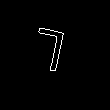L_S: (35, 27, 75, 83)
